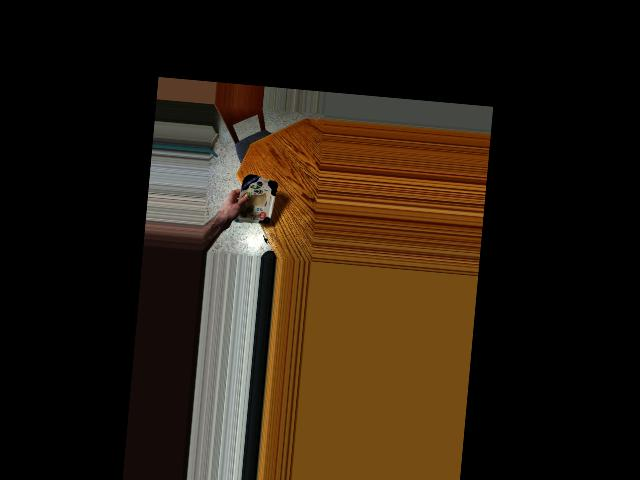cheese: (234, 171, 274, 231)
